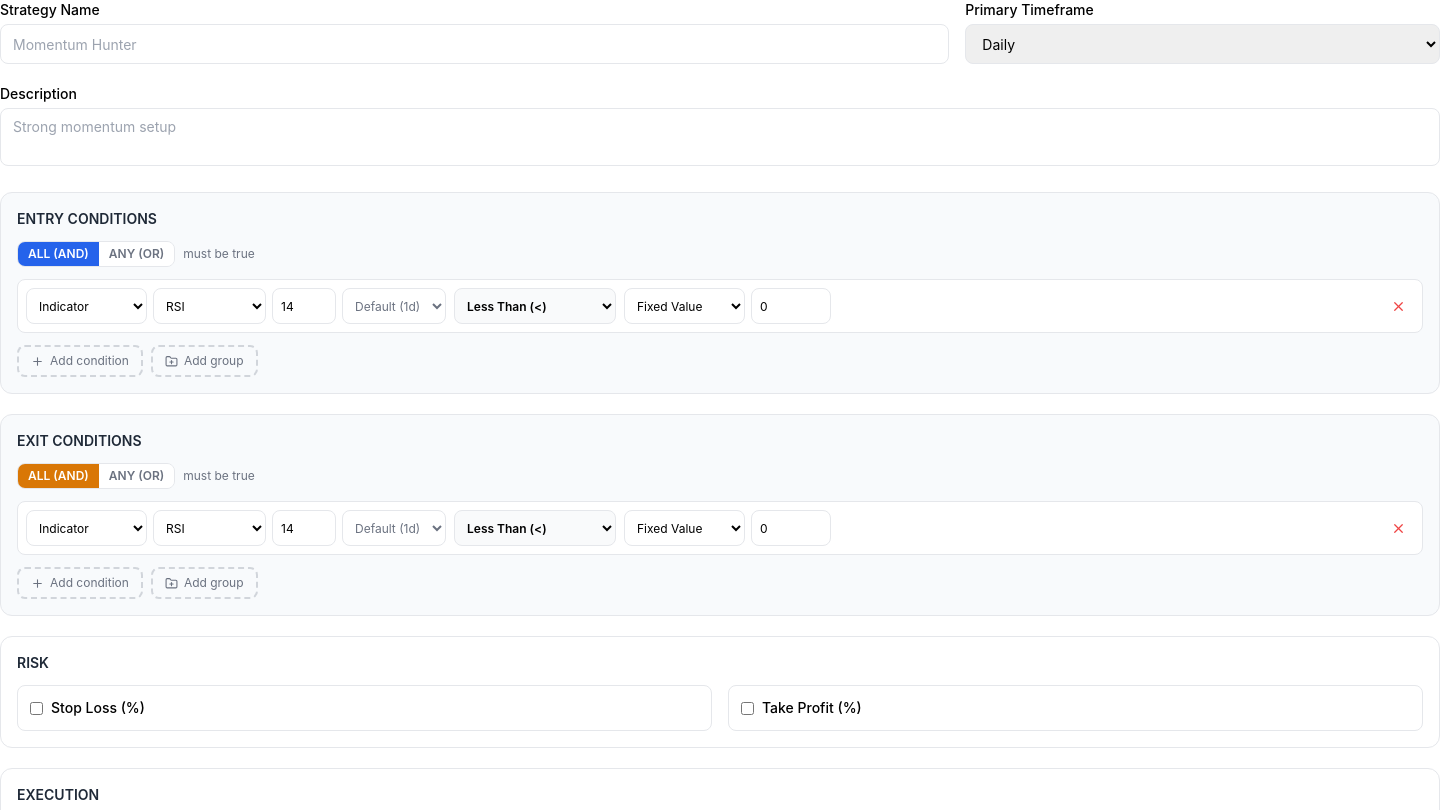
Test case: StrategyEditor › a server-side validation failure is surfaced to the user
Type "Bad Strategy" into the field with placeholder "Momentum Hunter" at (475, 44), box [0,24,949,64]
(page scrolled)
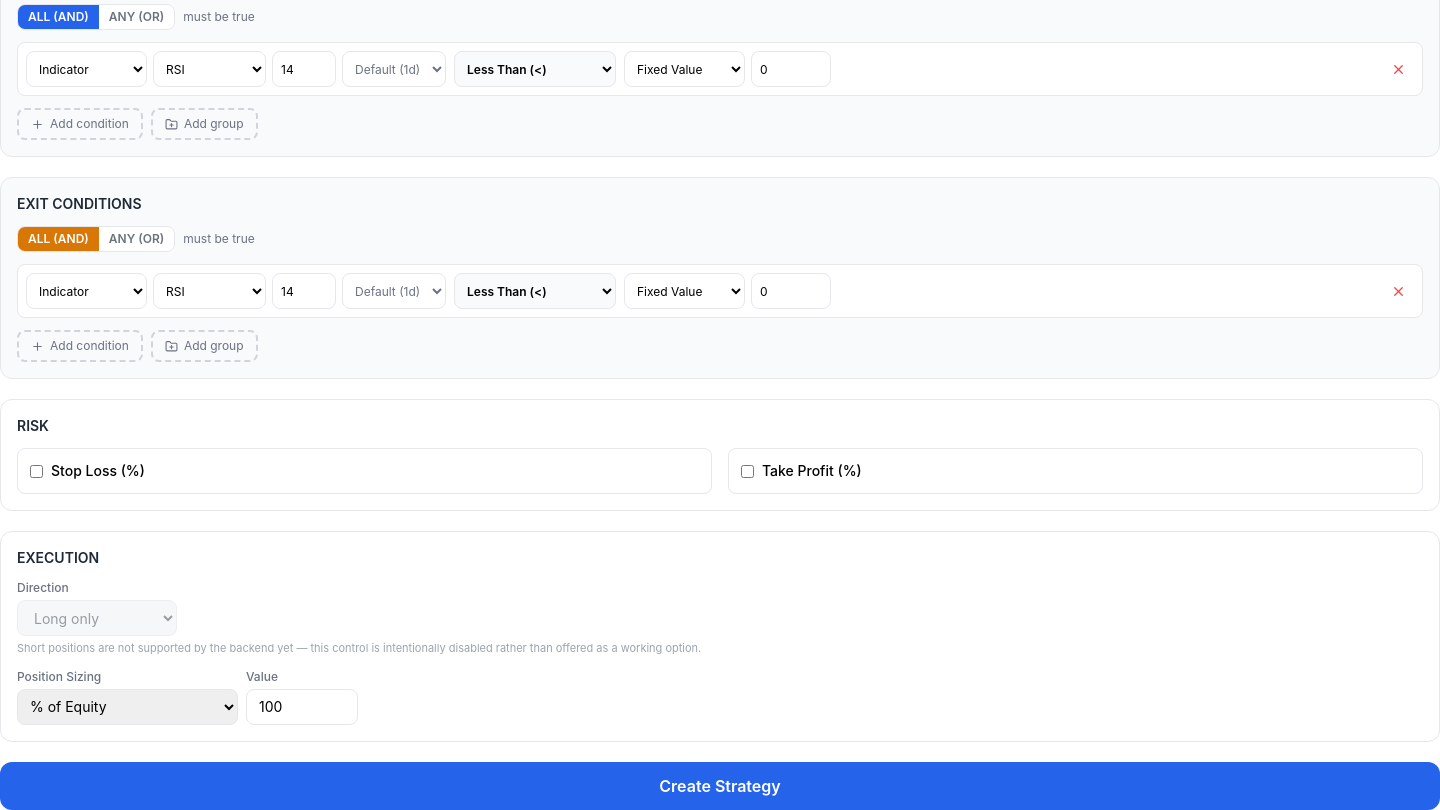
Click the button "Create Strategy" at (720, 786), box [0,762,1439,809]
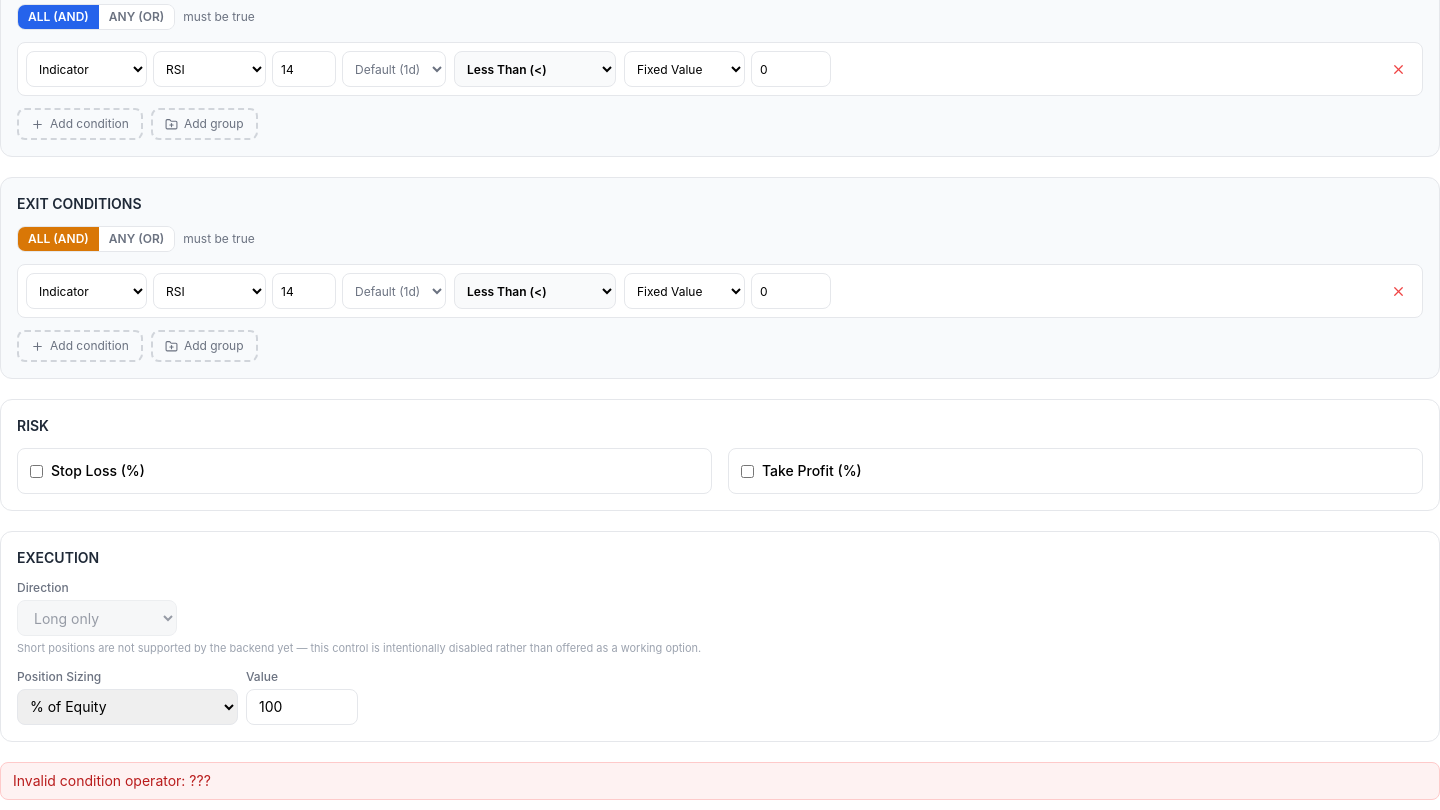
Expected: the text "Invalid condition operator: ???" is shown, [0,762,1439,800]
